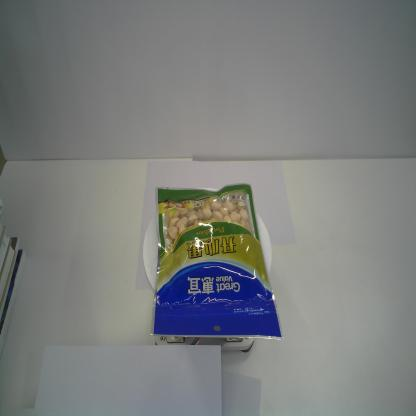Dried Fruit: (149, 182, 285, 343)
